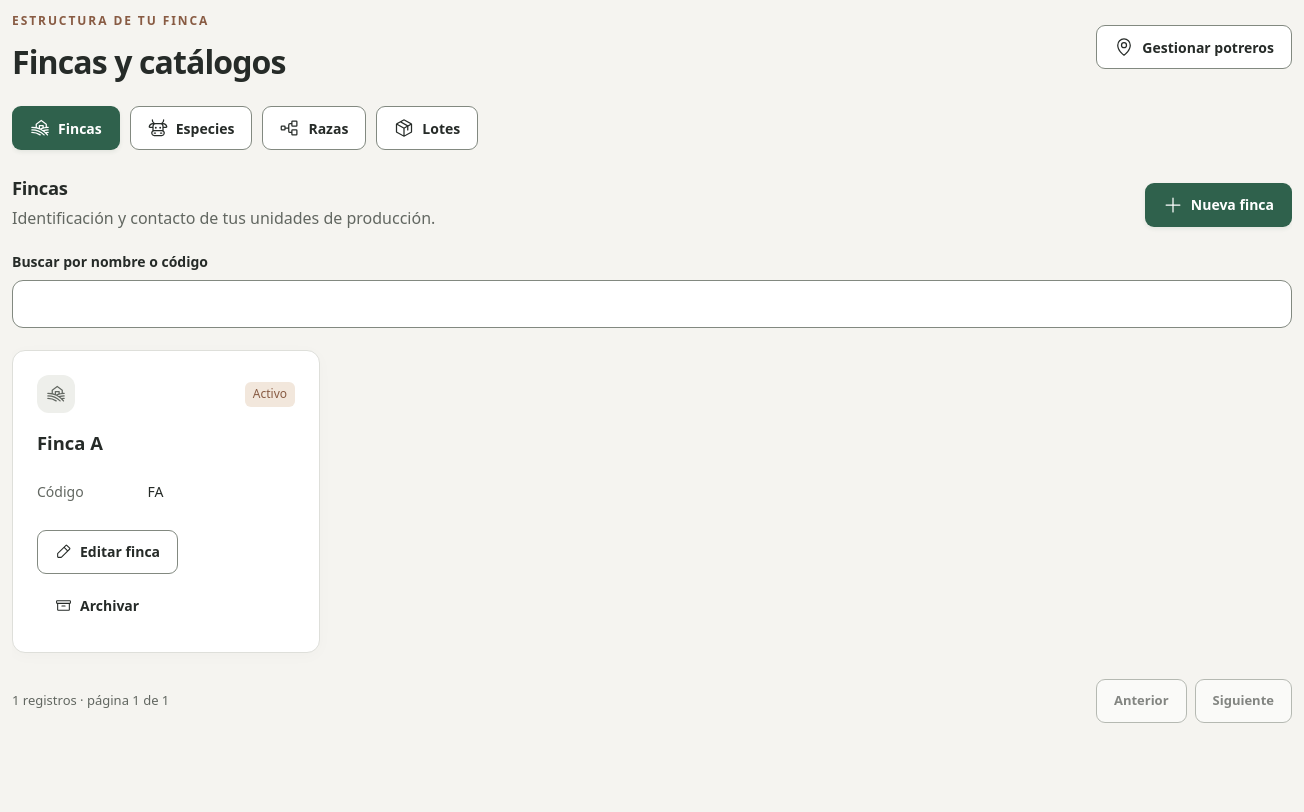
archives only after confirmation and preserves the row on a dependency conflict
Click the button "Archivar": (97, 606) top-left (37, 584), bottom-right (157, 628)
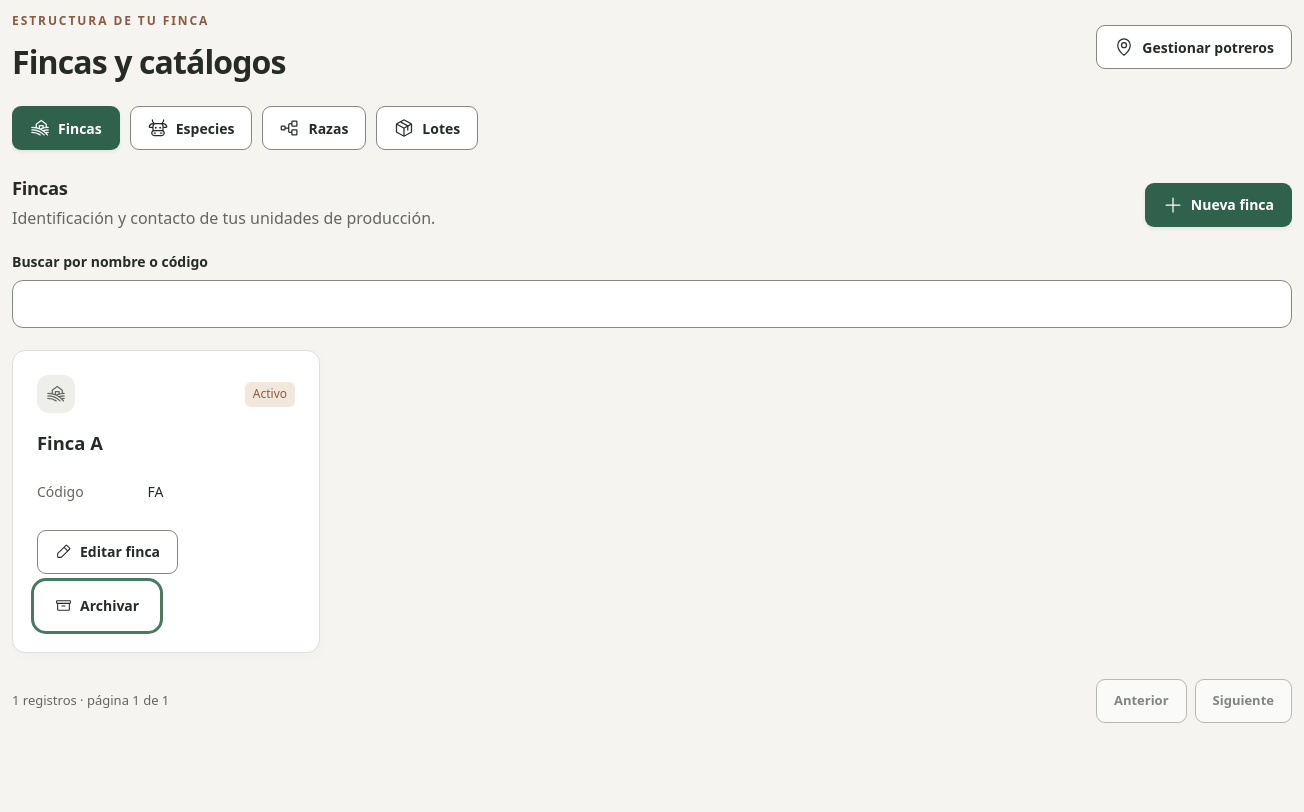
Click the button "Archivar": (97, 606) top-left (37, 584), bottom-right (157, 628)
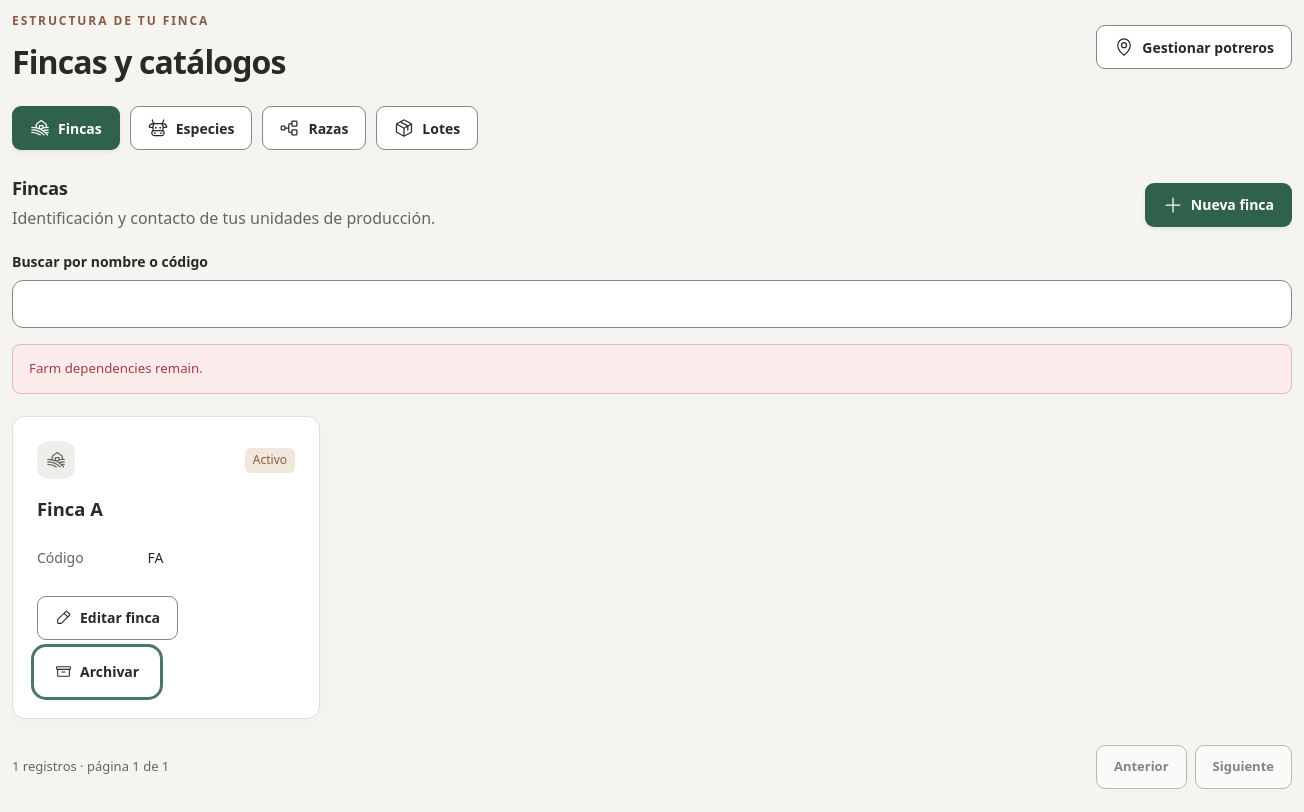
Expected: the element "Finca A" is shown, top-left (12, 416), bottom-right (320, 719)
Now the message reads "Farm dependencies remain.", box top-left (29, 359), bottom-right (203, 377)
